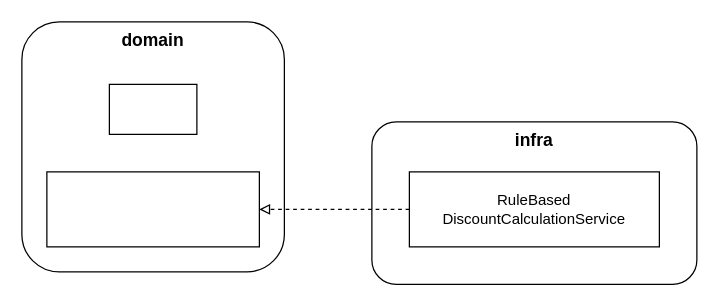
This 719x306 diagram has some shape labels left out. The centre of each missing label's shape, as x and y in pixels:
"<<interface>> DiscountCalculationService" belongs at pixel 152 209.
"Order" belongs at pixel 152 108.
